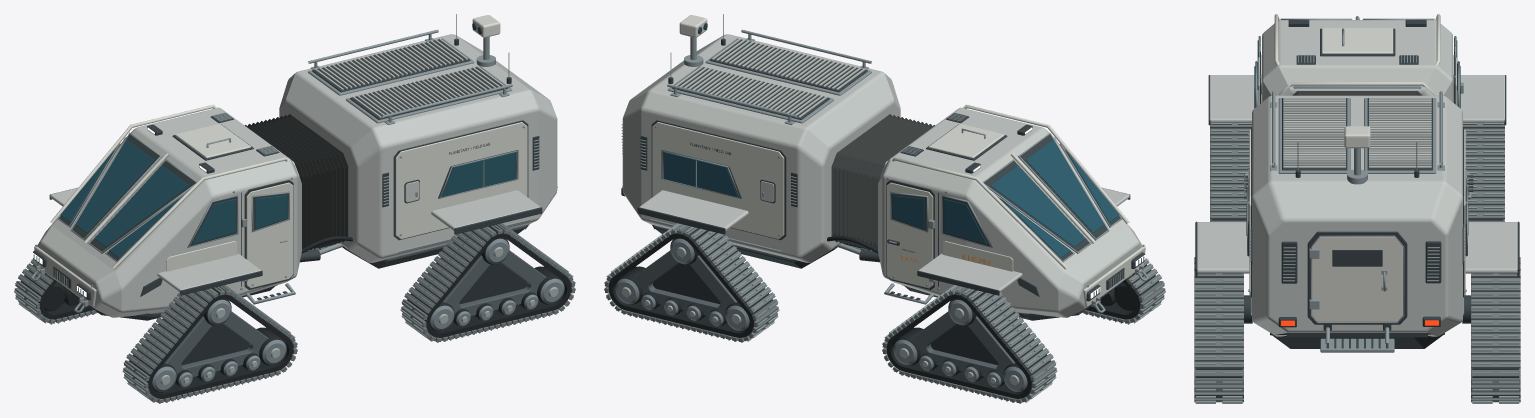
The model's file is khepri-explorer.glb.
3 renders of one model, left to right at view 1: azimuth 30°, elevation 25°; view 2: azimuth 150°, elevation 25°; view 3: azimuth 270°, elevation 25°, orthographic. The views are drawn at different scales.
Visible parts, largest first — view 1: Laboratory_Pressure_Hull.001, Cockpit_Pressure_Hull.001, H4_Lab_Service_Panel.002, Articulation_Flexible_Bellows.001, Track_R_L_64_Armored_Shoes.001, Track_F_L_64_Armored_Shoes.001, Cabin_Door_-1.001, Track_R_L_Continuous_Belt.001, Track_F_L_Continuous_Belt.001, Windshield_Main_-1_Glass.001, Windshield_Main_1_Glass.001, CleanTrack_R_L_Cast_Frame.001 (+39 smaller); view 2: Laboratory_Pressure_Hull.001, Cockpit_Pressure_Hull.001, H4_Lab_Service_Panel.003, Articulation_Flexible_Bellows.001, Track_R_R_64_Armored_Shoes.001, Track_F_R_64_Armored_Shoes.001, Cabin_Door_1.001, Track_R_R_Continuous_Belt.001, Track_F_R_Continuous_Belt.001, Windshield_Main_-1_Glass.001, Windshield_Main_1_Glass.001, CleanTrack_R_R_Cast_Frame.001 (+38 smaller); view 3: Laboratory_Pressure_Hull.001, Cockpit_Pressure_Hull.001, H4_Airlock_Door.001, Track_R_L_64_Armored_Shoes.001, Track_R_R_64_Armored_Shoes.001, Track_F_R_64_Armored_Shoes.001, Track_F_L_64_Armored_Shoes.001, Rear_L_Raised_Track_Guard.001, Rear_R_Raised_Track_Guard.001, Track_R_L_Traction_Cleats.001, Track_R_R_Traction_Cleats.001, H4_Front_Guard_F_L.001 (+22 smaller).
Part boxes in pixels (left/top/right/bottom): Laboratory_Pressure_Hull.001: left=279, top=34, right=557, bottom=262; Cockpit_Pressure_Hull.001: left=37, top=107, right=301, bottom=317; H4_Lab_Service_Panel.002: left=395, top=122, right=527, bottom=239; Articulation_Flexible_Bellows.001: left=245, top=114, right=348, bottom=250; Track_R_L_64_Armored_Shoes.001: left=401, top=224, right=575, bottom=341; Track_F_L_64_Armored_Shoes.001: left=123, top=286, right=297, bottom=402; Cabin_Door_-1.001: left=246, top=182, right=293, bottom=288; Track_R_L_Continuous_Belt.001: left=407, top=228, right=571, bottom=337; Track_F_L_Continuous_Belt.001: left=129, top=290, right=293, bottom=398; Windshield_Main_-1_Glass.001: left=94, top=165, right=189, bottom=246; Windshield_Main_1_Glass.001: left=75, top=140, right=153, bottom=232; CleanTrack_R_L_Cast_Frame.001: left=442, top=250, right=546, bottom=315; Laboratory_Pressure_Hull.001: left=622, top=34, right=900, bottom=262; Cockpit_Pressure_Hull.001: left=878, top=107, right=1142, bottom=317; H4_Lab_Service_Panel.003: left=652, top=122, right=784, bottom=239; Articulation_Flexible_Bellows.001: left=831, top=114, right=934, bottom=250; Track_R_R_64_Armored_Shoes.001: left=604, top=224, right=778, bottom=341; Track_F_R_64_Armored_Shoes.001: left=882, top=286, right=1056, bottom=402; Cabin_Door_1.001: left=886, top=182, right=933, bottom=288; Track_R_R_Continuous_Belt.001: left=608, top=228, right=772, bottom=337; Track_F_R_Continuous_Belt.001: left=886, top=290, right=1050, bottom=398; Windshield_Main_-1_Glass.001: left=1026, top=140, right=1104, bottom=232; Windshield_Main_1_Glass.001: left=990, top=165, right=1085, bottom=246; CleanTrack_R_R_Cast_Frame.001: left=633, top=250, right=737, bottom=315; Laboratory_Pressure_Hull.001: left=1252, top=95, right=1462, bottom=336; Cockpit_Pressure_Hull.001: left=1262, top=20, right=1452, bottom=101; H4_Airlock_Door.001: left=1312, top=237, right=1402, bottom=321; Track_R_L_64_Armored_Shoes.001: left=1194, top=257, right=1243, bottom=402; Track_R_R_64_Armored_Shoes.001: left=1471, top=257, right=1520, bottom=402; Track_F_R_64_Armored_Shoes.001: left=1463, top=123, right=1504, bottom=221; Track_F_L_64_Armored_Shoes.001: left=1210, top=123, right=1251, bottom=221; Rear_L_Raised_Track_Guard.001: left=1197, top=222, right=1249, bottom=273; Rear_R_Raised_Track_Guard.001: left=1465, top=222, right=1517, bottom=273; Track_R_L_Traction_Cleats.001: left=1195, top=273, right=1242, bottom=403; Track_R_R_Traction_Cleats.001: left=1472, top=273, right=1519, bottom=403; H4_Front_Guard_F_L.001: left=1210, top=75, right=1261, bottom=122.
Bounding box in the file's own units: 6.86 × 3.25 × 3.52.
